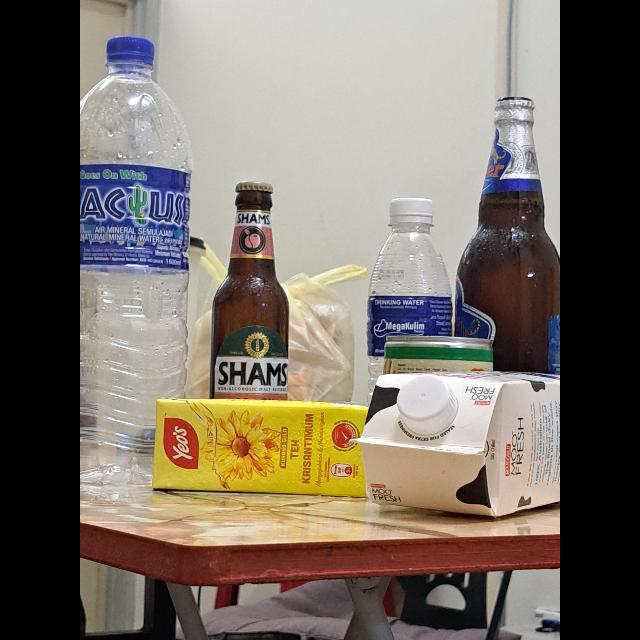caixinha: (350, 370, 560, 518), (153, 398, 369, 496)
garrafa de vidro: (456, 97, 560, 373), (209, 181, 289, 399)
garrafa plástica: (80, 65, 190, 502), (368, 225, 450, 395)
lata: (384, 334, 494, 374)
tampa plástica: (397, 375, 457, 435), (107, 36, 155, 66), (389, 198, 433, 222)
